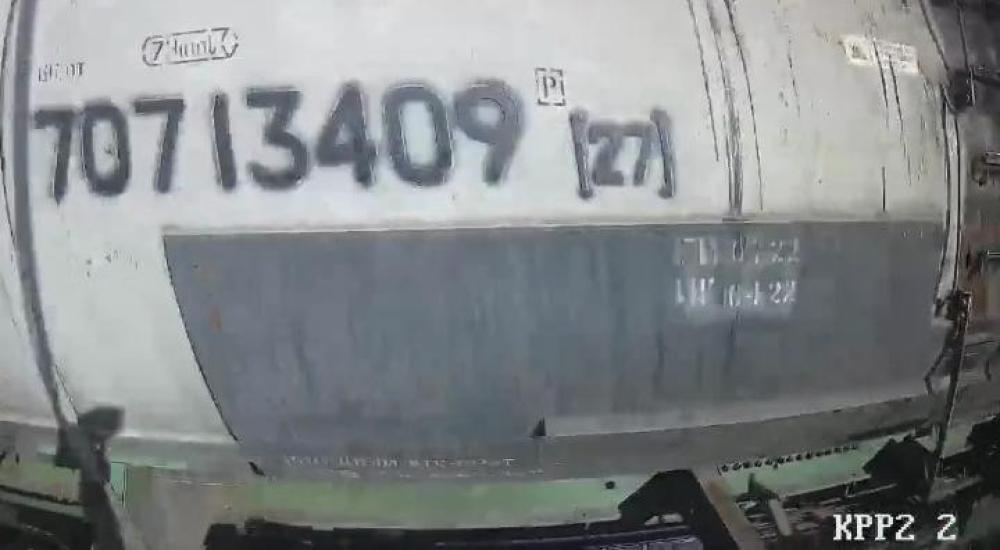Wagon-number: (32, 78, 528, 206)
